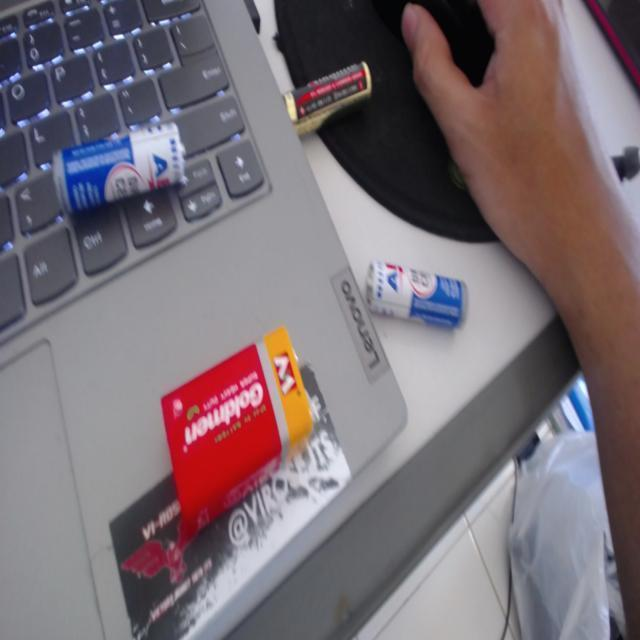Hazard: (160, 324, 315, 552), (52, 118, 189, 221), (364, 258, 469, 330), (282, 60, 372, 138)
